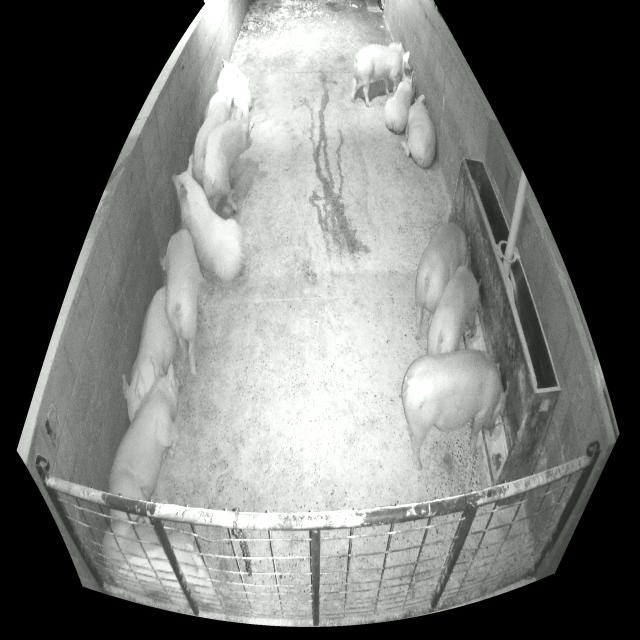pig: (402, 350, 509, 470), (108, 356, 183, 501), (103, 519, 215, 609), (172, 154, 242, 281), (122, 286, 178, 423), (414, 222, 471, 339), (159, 229, 202, 376), (428, 266, 479, 353), (192, 92, 236, 188), (203, 107, 247, 199), (351, 42, 410, 108), (397, 95, 436, 169), (216, 60, 253, 126), (384, 72, 414, 133), (204, 92, 226, 120)
